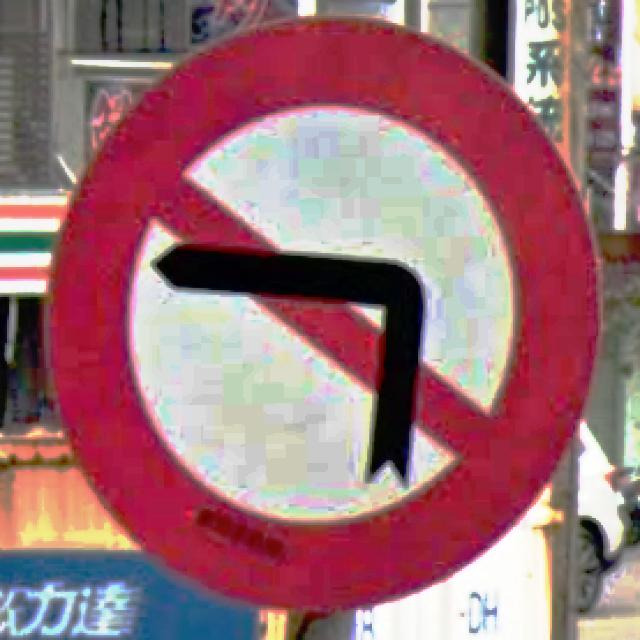noturnleft: (39, 11, 606, 612)
